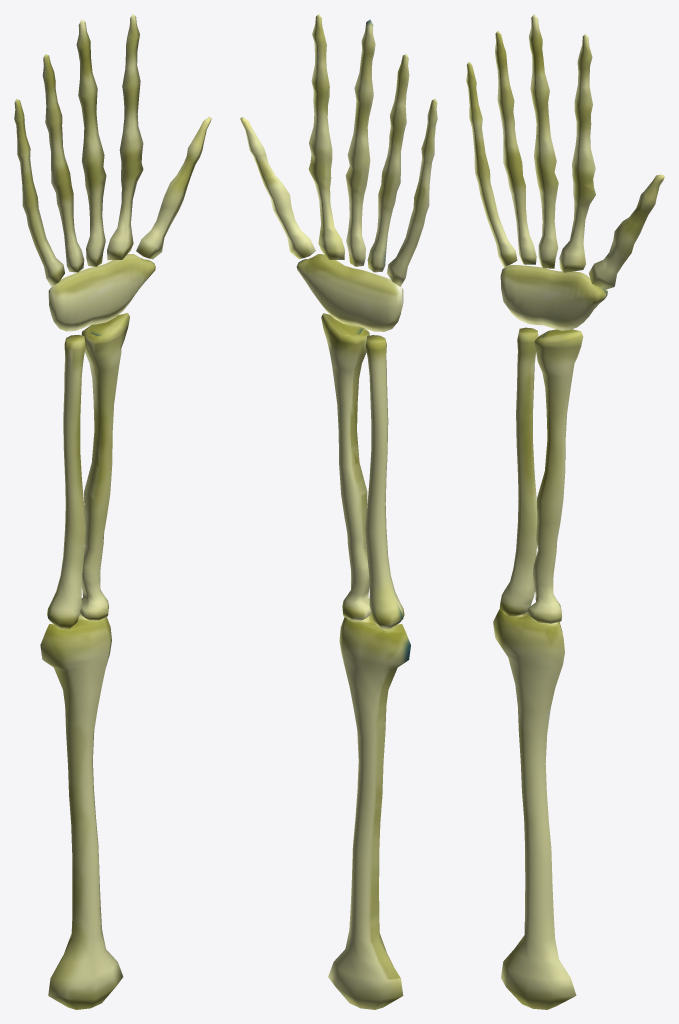
File: SkeletonArm.fbx
The picture shows the model from 3 angles, left to right: view 1: azimuth 30°, elevation 25°; view 2: azimuth 150°, elevation 25°; view 3: azimuth 330°, elevation 25°; orthographic projection.
Parts seen in each view (by area): view 1: SkeletonArm; view 2: SkeletonArm; view 3: SkeletonArm.
Boxes of the visible parts, bbox=[...] form: SkeletonArm: bbox=[14, 14, 211, 1009]; SkeletonArm: bbox=[240, 14, 437, 1009]; SkeletonArm: bbox=[466, 14, 664, 1009].
Bounding box in the file's own units: 23.73 × 113 × 4.62.
